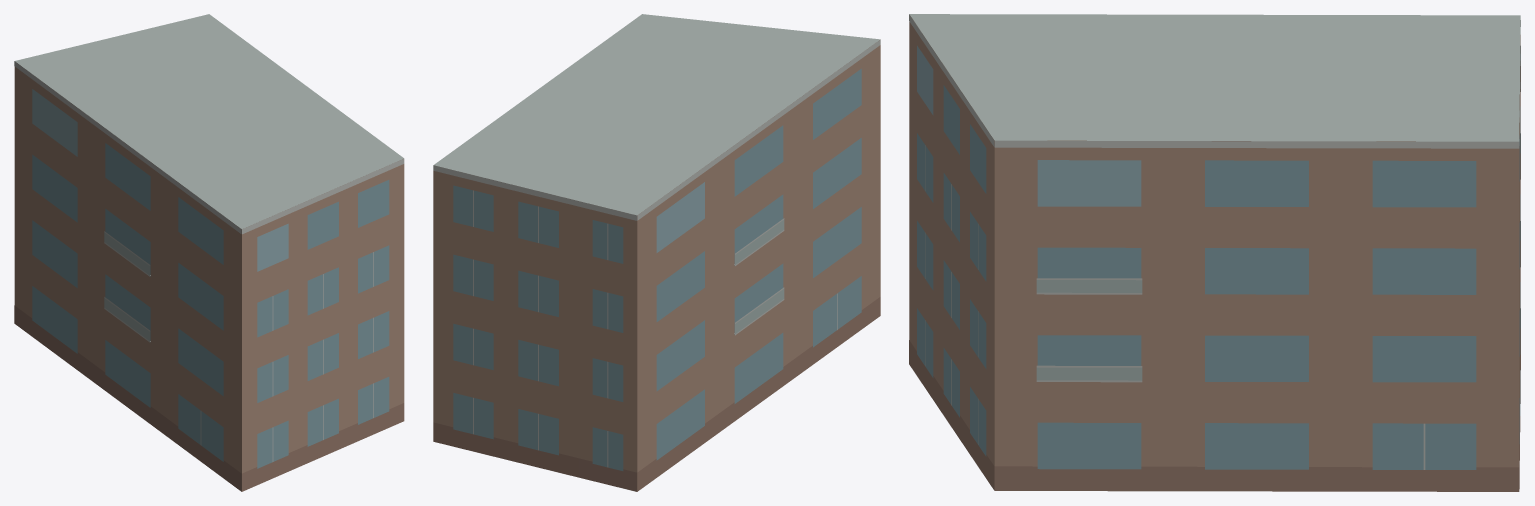
The model's file is residential-a14898a0-3df2-464a-8ee2-b98483145416.glb.
The picture shows the model from 3 angles, left to right: view 1: azimuth 30°, elevation 25°; view 2: azimuth 150°, elevation 25°; view 3: azimuth 270°, elevation 25°; orthographic projection. The views are drawn at different scales.
Parts seen in each view (by area): view 1: residential-a14898a0-3df2-464a-8ee2-b98483145416.tmp; view 2: residential-a14898a0-3df2-464a-8ee2-b98483145416.tmp; view 3: residential-a14898a0-3df2-464a-8ee2-b98483145416.tmp.
Part boxes in pixels (x1,y1,x2,y2): residential-a14898a0-3df2-464a-8ee2-b98483145416.tmp: (14,14,404,491); residential-a14898a0-3df2-464a-8ee2-b98483145416.tmp: (433,14,880,491); residential-a14898a0-3df2-464a-8ee2-b98483145416.tmp: (909,14,1520,491).
Bounding box in the file's own units: 9.55 × 12.2 × 19.31.
